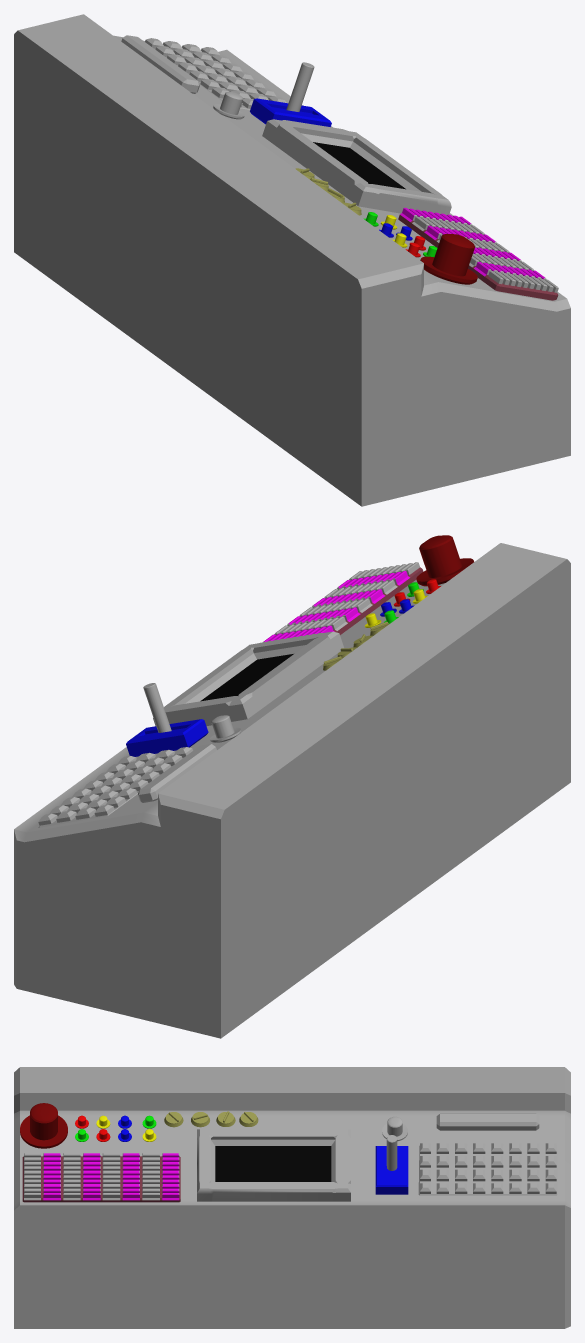
File: Panel.fbx
3 renders of one model, top to bottom at view 1: azimuth 30°, elevation 25°; view 2: azimuth 150°, elevation 25°; view 3: azimuth 270°, elevation 25°, orthographic. The views are drawn at different scales.
Parts seen in each view (by area): view 1: Panel1; view 2: Panel1; view 3: Panel1.
Boxes of the visible parts, bbox=[...] form: Panel1: bbox=[14, 14, 570, 506]; Panel1: bbox=[14, 535, 570, 1038]; Panel1: bbox=[14, 1067, 570, 1328].
Size of the model in its own units: 3.16 by 3.32 by 9.11.
